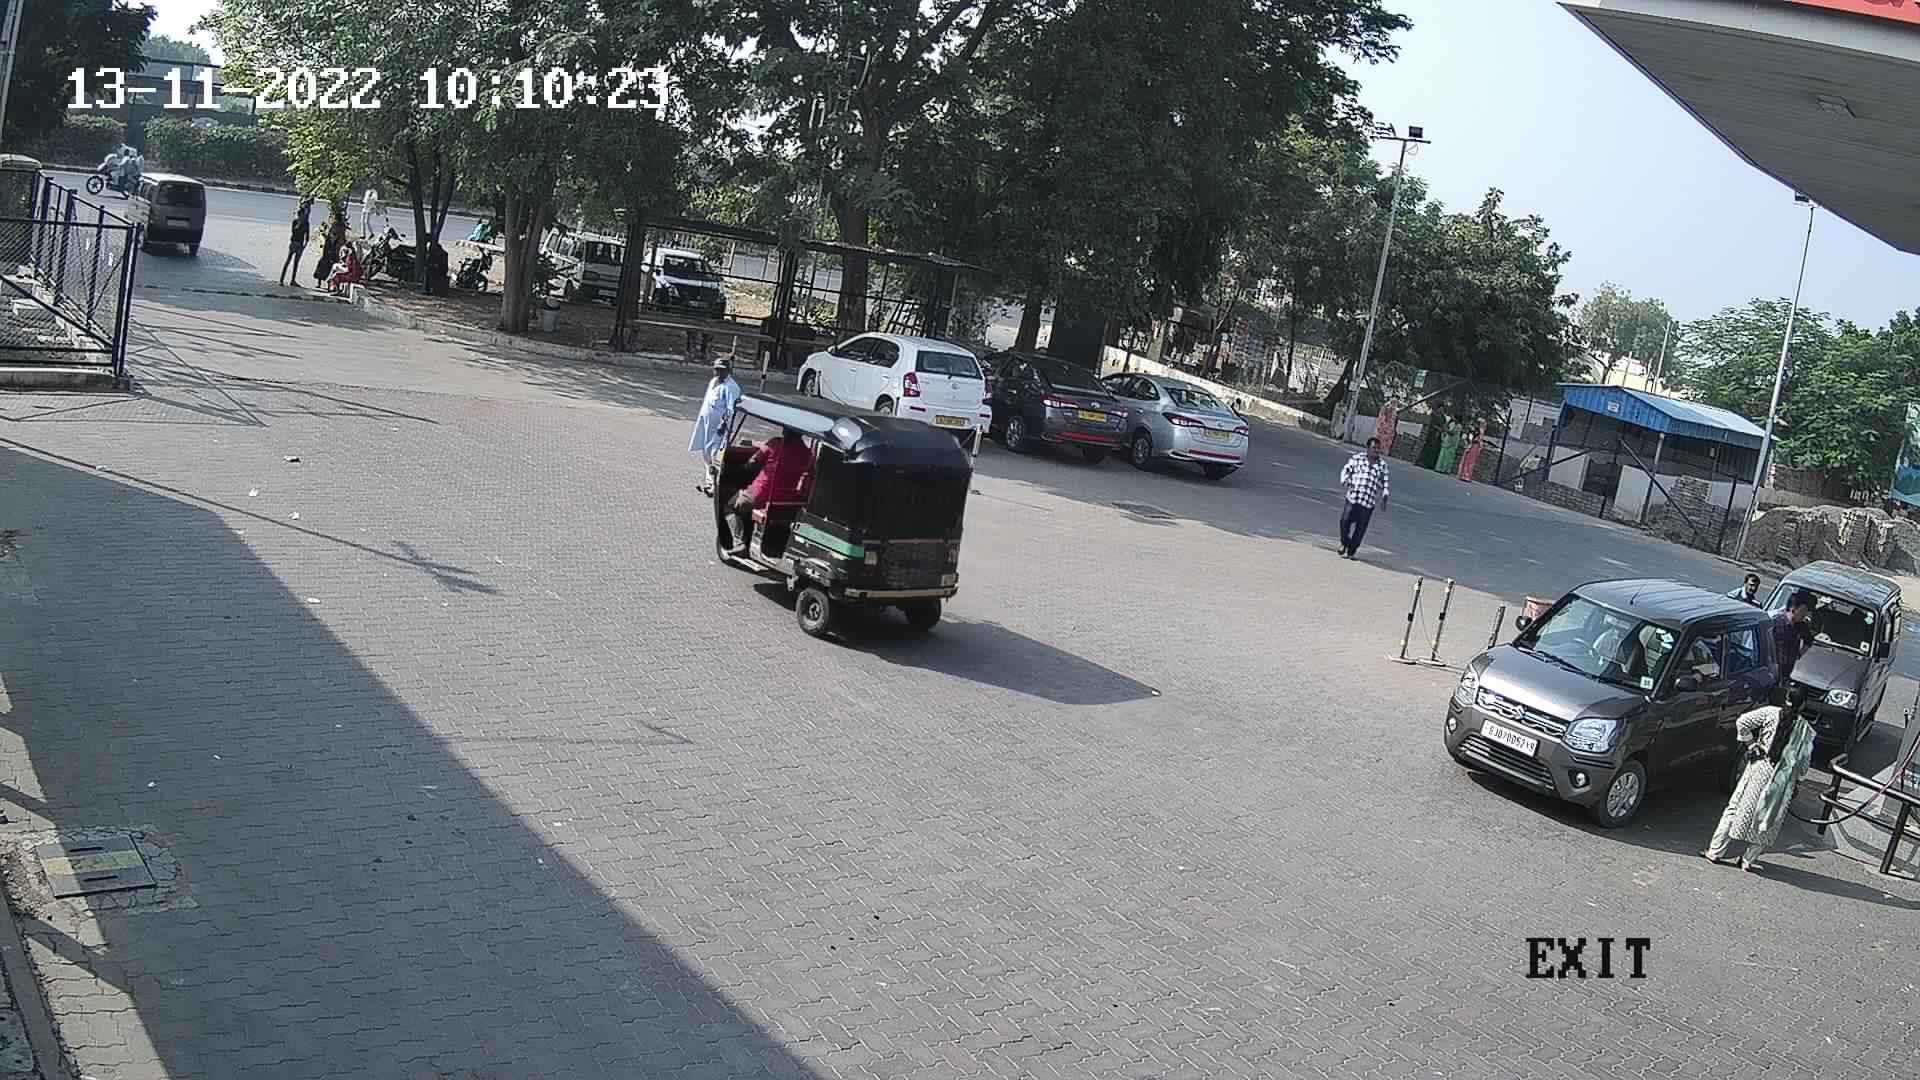Auto: (696, 377, 986, 644), (3, 135, 50, 273)
Bike: (351, 208, 427, 290), (78, 132, 153, 204), (450, 233, 502, 301)
Car: (1427, 570, 1800, 840), (1738, 553, 1907, 770), (785, 326, 1006, 462), (968, 340, 1141, 469), (1092, 367, 1251, 487), (117, 165, 218, 266), (629, 237, 736, 324), (535, 218, 637, 307)
